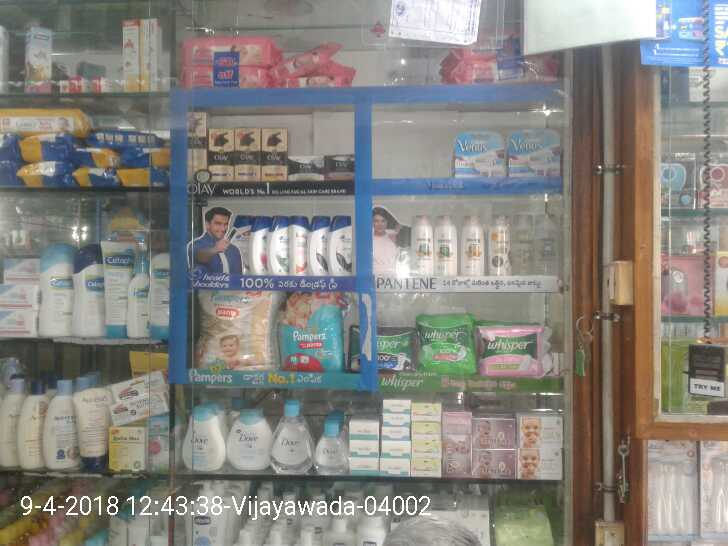venus: (453, 130, 504, 177), (509, 129, 560, 176)
